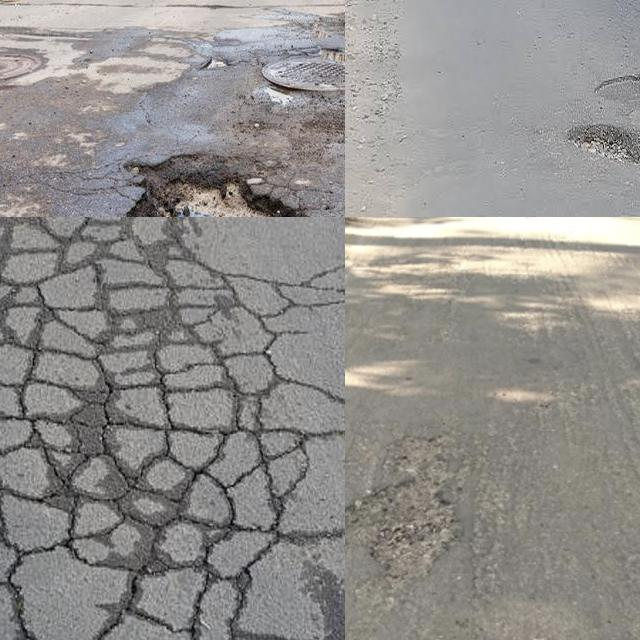Lubang: (345, 436, 465, 583), (125, 169, 305, 217), (571, 116, 640, 164), (597, 76, 640, 112)
Retak Buaya: (0, 217, 345, 640)
